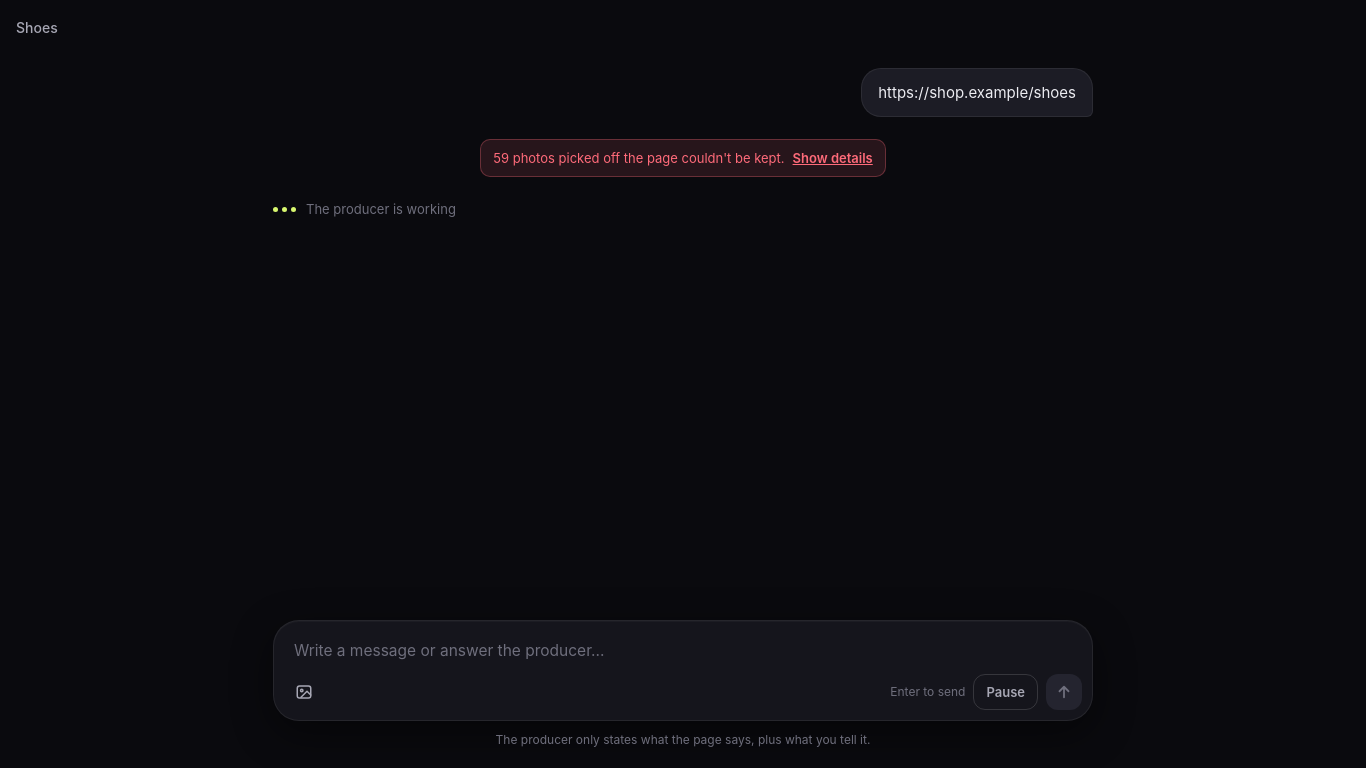
a long problem notice shows its first line, and the rest only on asking
Expected: the text "https://shop.example/shoes" is shown, 861,68 -> 1093,117
Expected: the text "59 photos picked off the page couldn't be kept." is shown, 493,148 -> 785,168
Click the button "Show details".
click(833, 158)  # box 793,148 -> 873,168
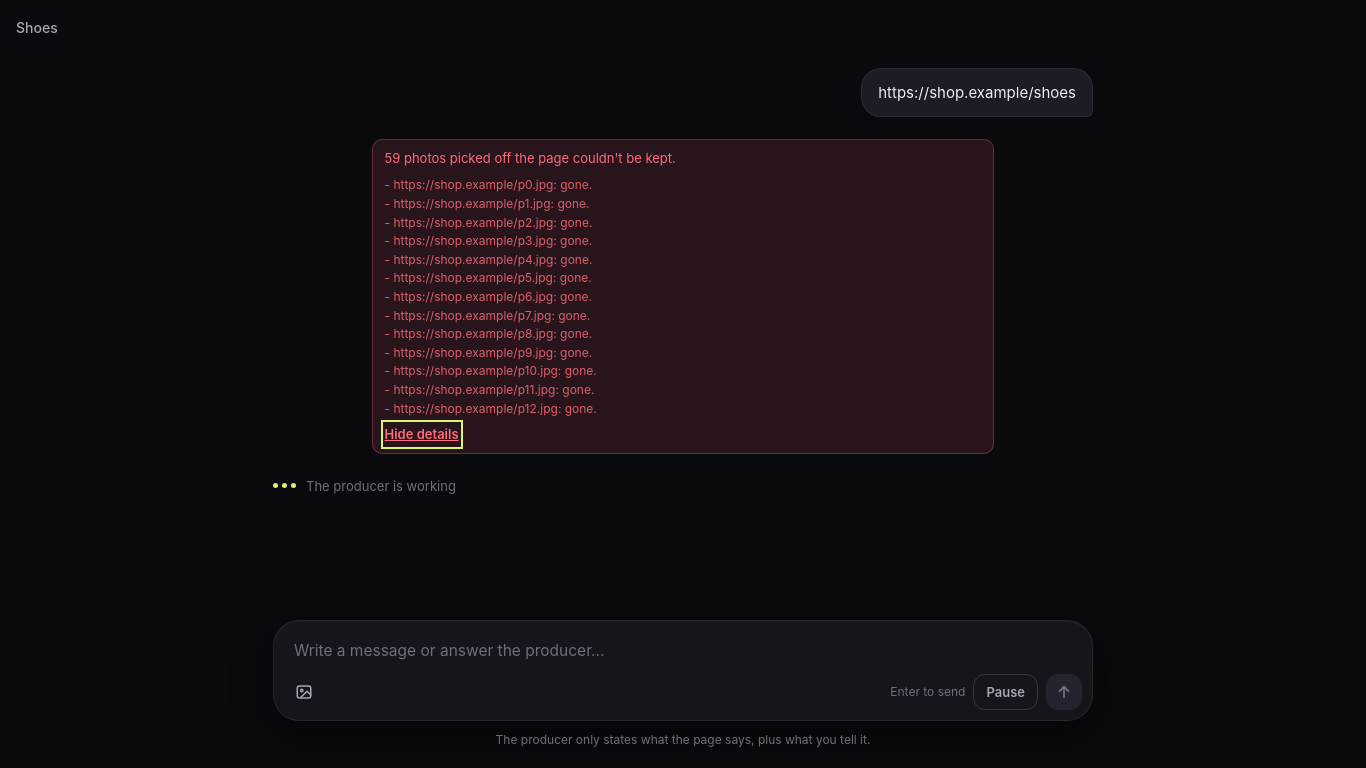
Click the button "Hide details".
click(422, 434)  # box 384,424 -> 458,444
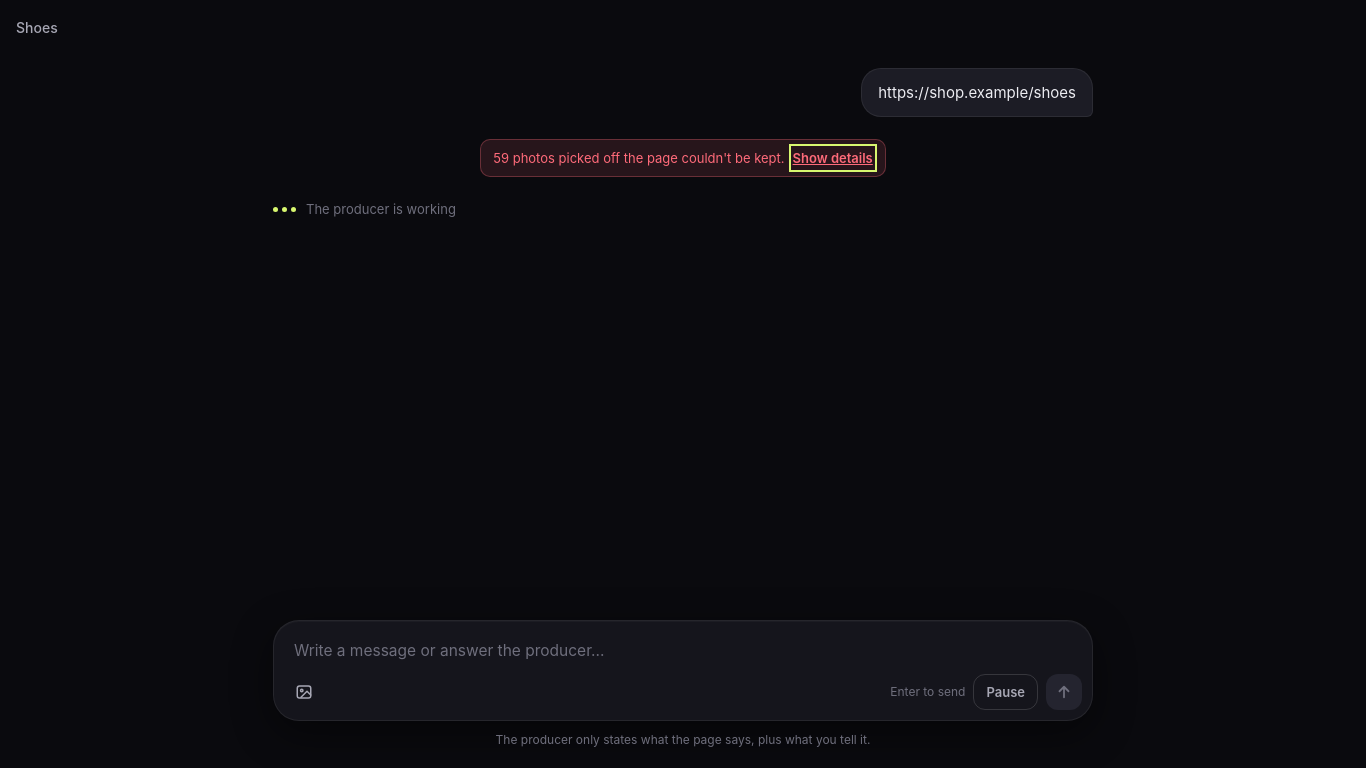
Result: the text "p0.jpg" is gone
